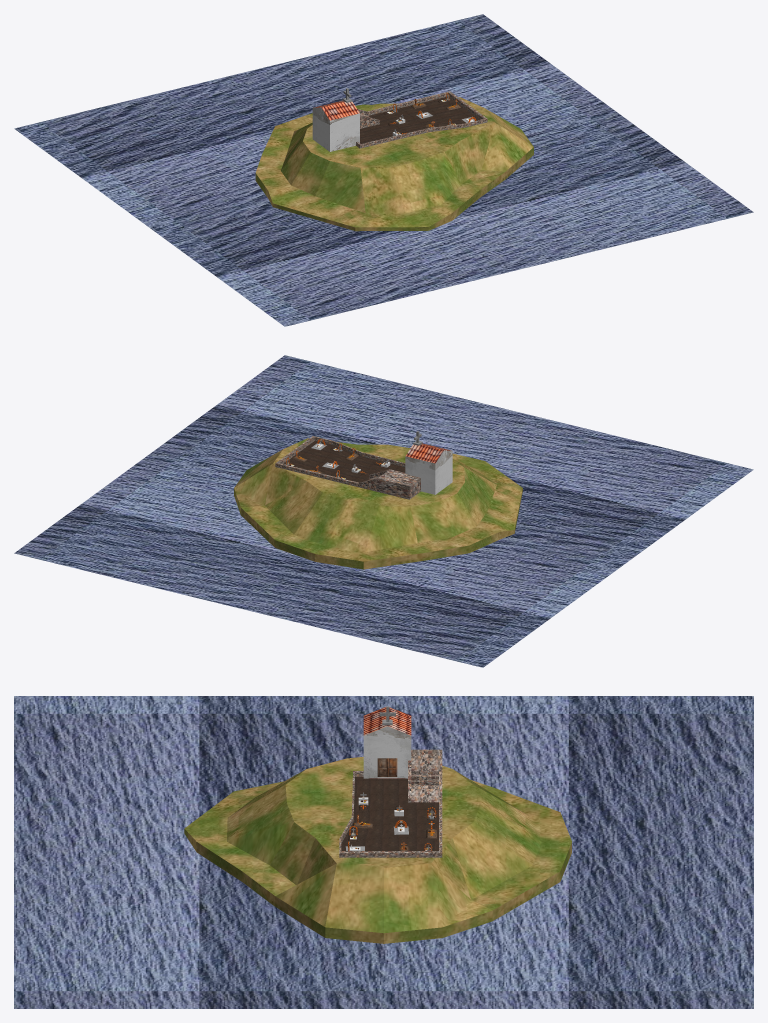
The model's file is prueba.obj.
3 views of the same model, one above another, from view 1: azimuth 30°, elevation 25°; view 2: azimuth 150°, elevation 25°; view 3: azimuth 270°, elevation 25° (orthographic). The views are drawn at different scales.
Visible parts, largest first — view 1: Cylinder, base-flores.020; view 2: Cylinder, base-flores.020; view 3: Cylinder, base-flores.020.
Part boxes in pixels (x1,y1,x2,y2): Cylinder: (14, 14, 753, 326); base-flores.020: (312, 88, 487, 151); Cylinder: (14, 355, 753, 667); base-flores.020: (275, 431, 452, 499); Cylinder: (14, 696, 753, 1008); base-flores.020: (339, 706, 442, 857).
Bounding box in the file's own units: 25.84 × 4.71 × 25.84.
213 materials, 212 textured.
